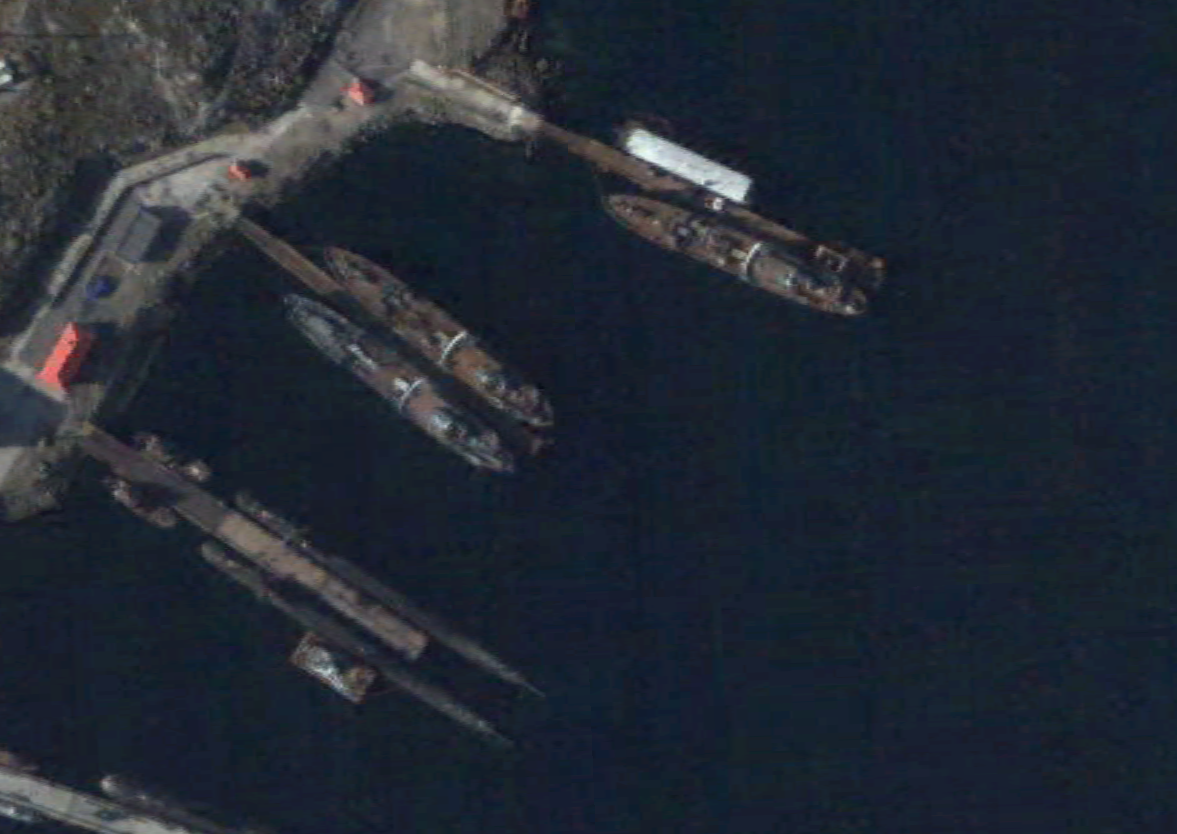merchant ship: (320, 241, 557, 428), (276, 290, 514, 476), (599, 188, 868, 316), (98, 470, 179, 531), (133, 427, 210, 481)
submarine: (232, 487, 544, 701), (197, 538, 511, 746)
